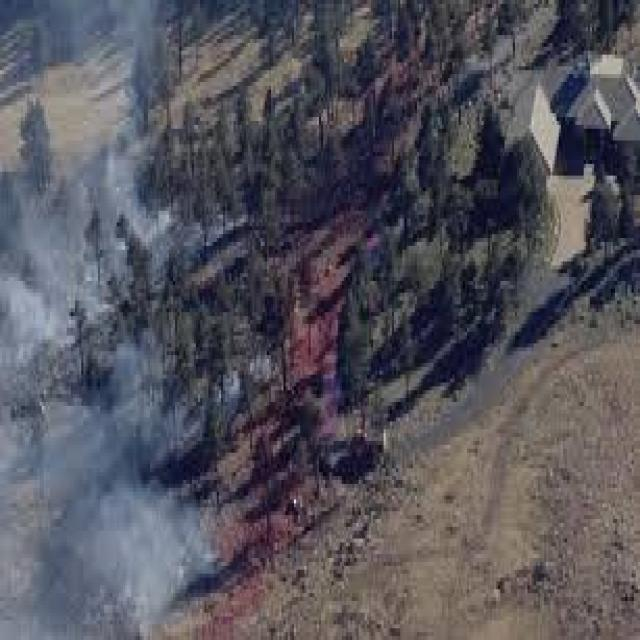Smoke: (0, 9, 166, 640), (10, 400, 164, 634), (72, 463, 212, 631), (0, 173, 54, 339)
